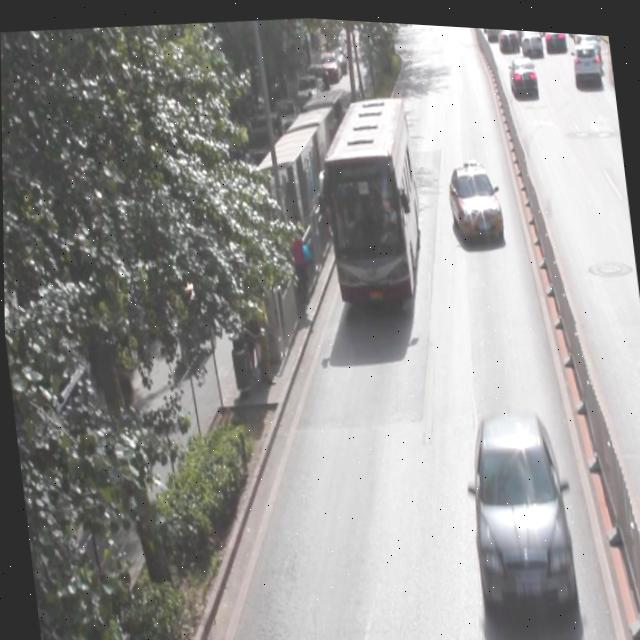car: (458, 394, 576, 612), (444, 153, 502, 239)
van: (315, 86, 425, 302)
